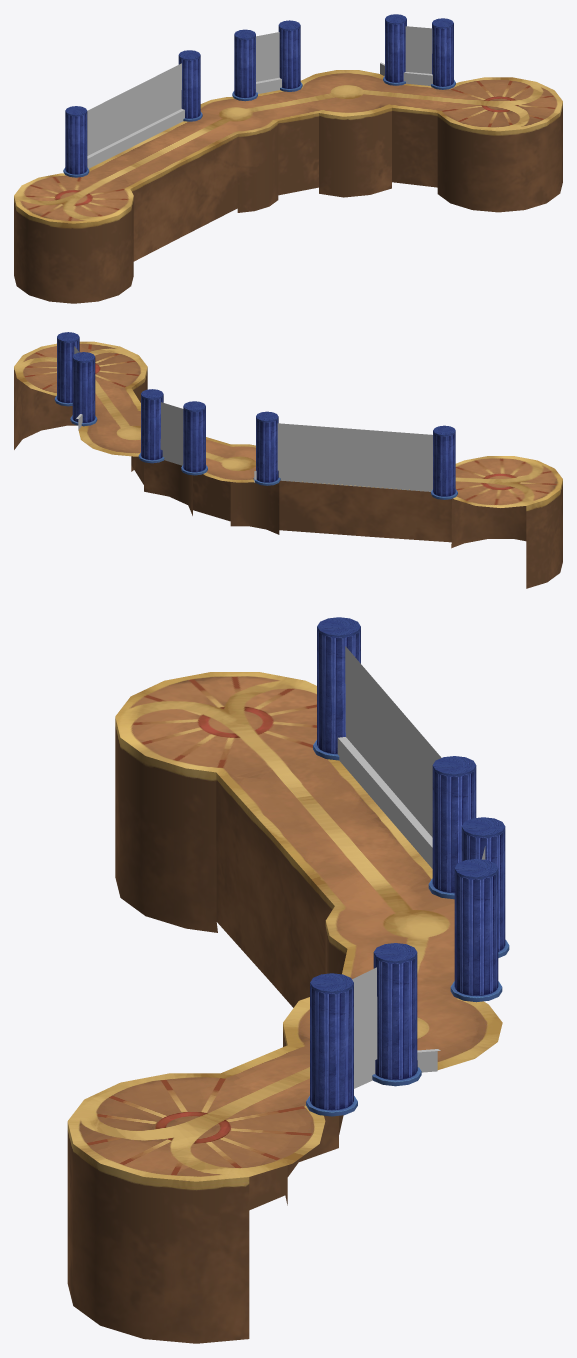
The model's file is Aries_std_Rooms.fbx.
The picture shows the model from 3 angles, top to bottom: view 1: azimuth 30°, elevation 25°; view 2: azimuth 150°, elevation 25°; view 3: azimuth 270°, elevation 25°; orthographic projection. The views are drawn at different scales.
Visible parts, largest first — view 1: Floor, Aries_std_Wall, Column7, Column8, Column11, Column9, Column10, Column2; view 2: Floor, Aries_std_Wall, Column10, Column7, Column8, Column2, Column9, Column11; view 3: Floor, Aries_std_Wall, Column9, Column11, Column10, Column2, Column7, Column8.
Boxes of the visible parts, <box> form: Floor: <box>14,70,562,303</box>; Aries_std_Wall: <box>87,26,432,168</box>; Column7: <box>63,106,89,177</box>; Column8: <box>232,29,257,101</box>; Column11: <box>431,18,455,89</box>; Column9: <box>278,20,302,91</box>; Column10: <box>383,14,406,85</box>; Column2: <box>178,50,202,121</box>; Floor: <box>14,341,562,588</box>; Aries_std_Wall: <box>74,346,432,491</box>; Column10: <box>70,352,97,426</box>; Column7: <box>431,425,457,499</box>; Column8: <box>181,401,207,475</box>; Column2: <box>253,411,280,485</box>; Column9: <box>138,389,164,463</box>; Column11: <box>54,332,79,406</box>; Floor: <box>67,672,502,1343</box>; Aries_std_Wall: <box>337,646,485,1088</box>; Column9: <box>450,859,502,1002</box>; Column11: <box>306,973,357,1116</box>; Column10: <box>372,943,421,1086</box>; Column2: <box>428,756,476,899</box>; Column7: <box>313,617,360,760</box>; Column8: <box>461,817,509,957</box>.
Size of the model in its own units: 48.25 by 12.6 by 17.68.
